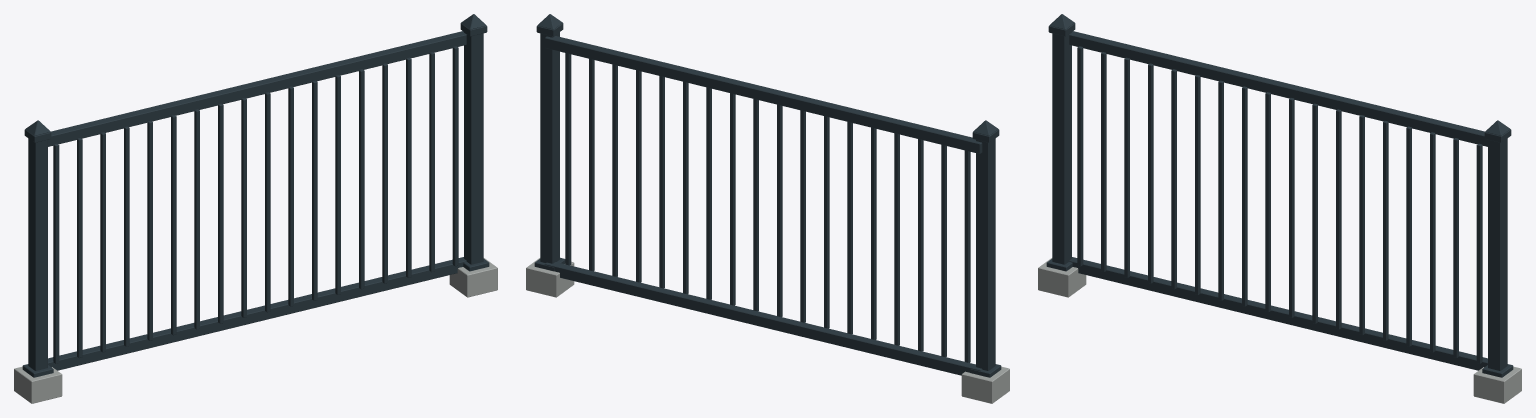
Rendered from b19_flat_top_pool_fence.glb.
3 renders of one model, left to right at view 1: azimuth 30°, elevation 25°; view 2: azimuth 150°, elevation 25°; view 3: azimuth 330°, elevation 25°, orthographic.
Parts seen in each view (by area): view 1: b19_flat_top_pool_fence; view 2: b19_flat_top_pool_fence; view 3: b19_flat_top_pool_fence.
Boxes of the visible parts, x1,y1,x2,y2 form: b19_flat_top_pool_fence: (14, 14, 497, 403); b19_flat_top_pool_fence: (526, 14, 1009, 403); b19_flat_top_pool_fence: (1038, 14, 1521, 403).
Size of the model in its own units: 2.57 by 1.44 by 0.17.
